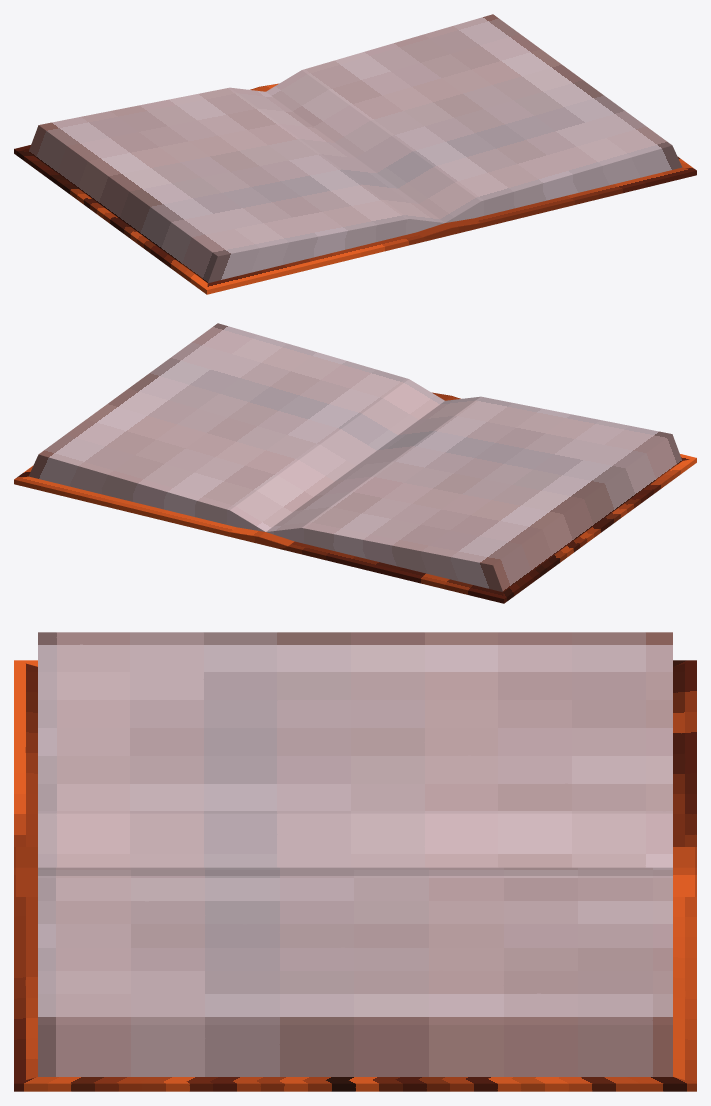
File: OpenBook.fbx
3 renders of one model, top to bottom at view 1: azimuth 30°, elevation 25°; view 2: azimuth 150°, elevation 25°; view 3: azimuth 270°, elevation 25°, orthographic. The views are drawn at different scales.
Visible parts, largest first — view 1: FinishedBook1_open; view 2: FinishedBook1_open; view 3: FinishedBook1_open.
Part boxes in pixels (x1,y1,x2,y2): FinishedBook1_open: (14, 14, 696, 294); FinishedBook1_open: (14, 323, 696, 603); FinishedBook1_open: (14, 632, 696, 1091).
Size of the model in its own units: 440 by 25.01 by 300.
